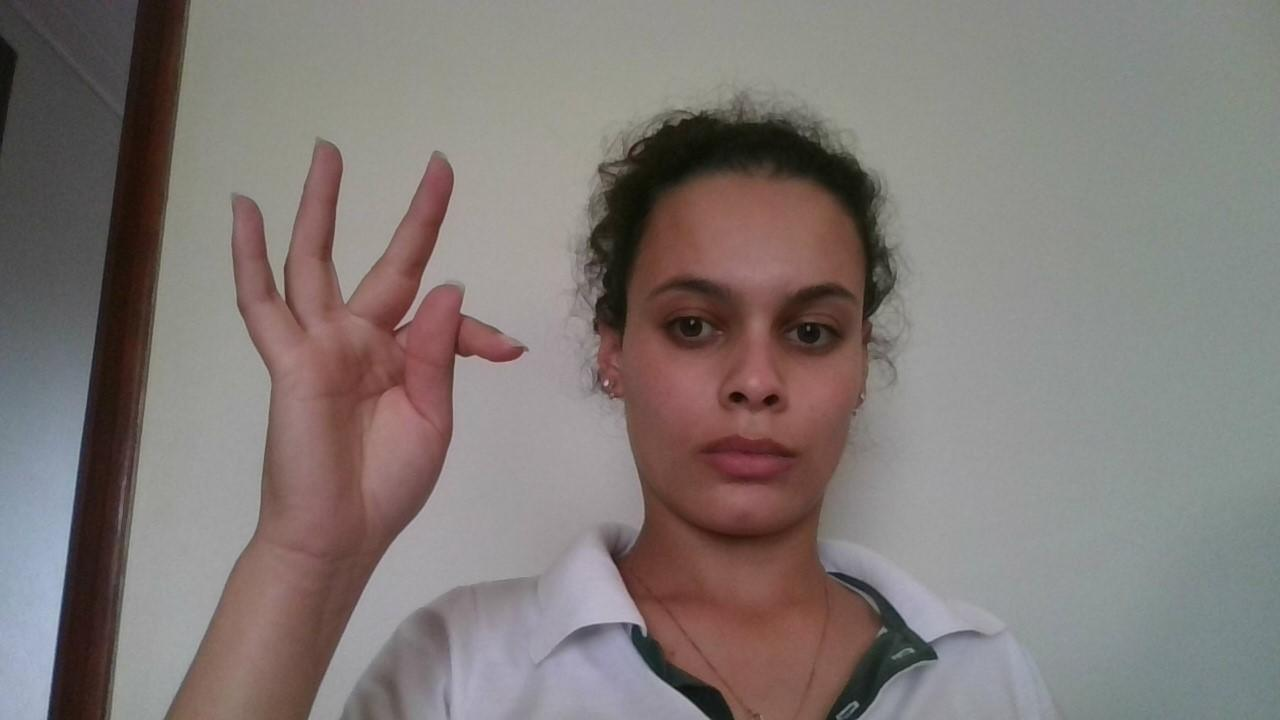T: (218, 128, 538, 546)
